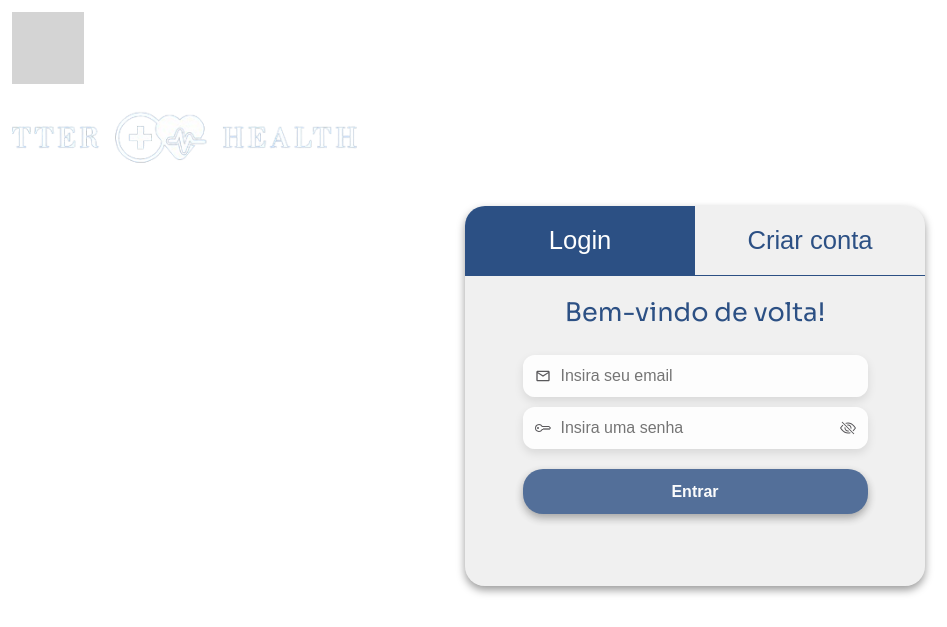
Test: AuthenticationView Component › should show validation errors on blur for empty fields
Click the button "Criar conta" at (810, 240), box 695,206 -> 925,275
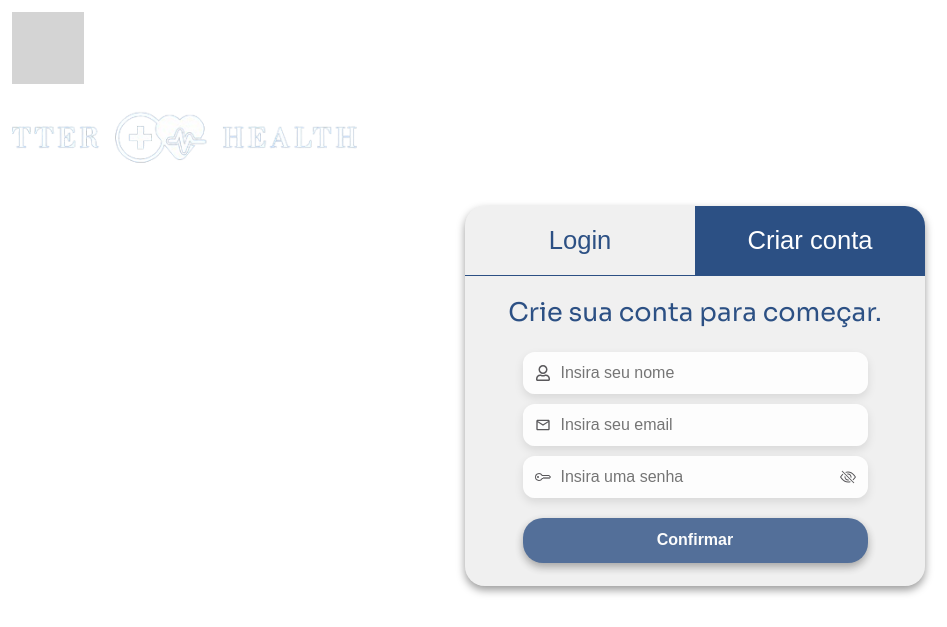
Leave the field with placeholder "Insira seu nome", box 560,364 -> 856,382
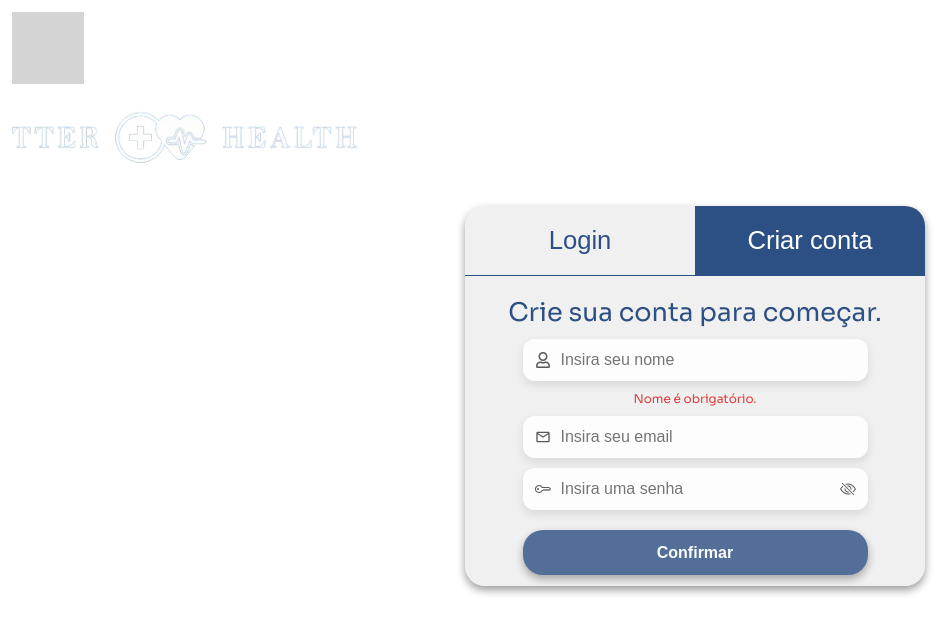
Leave the field with placeholder "Insira seu email", box 560,428 -> 856,446
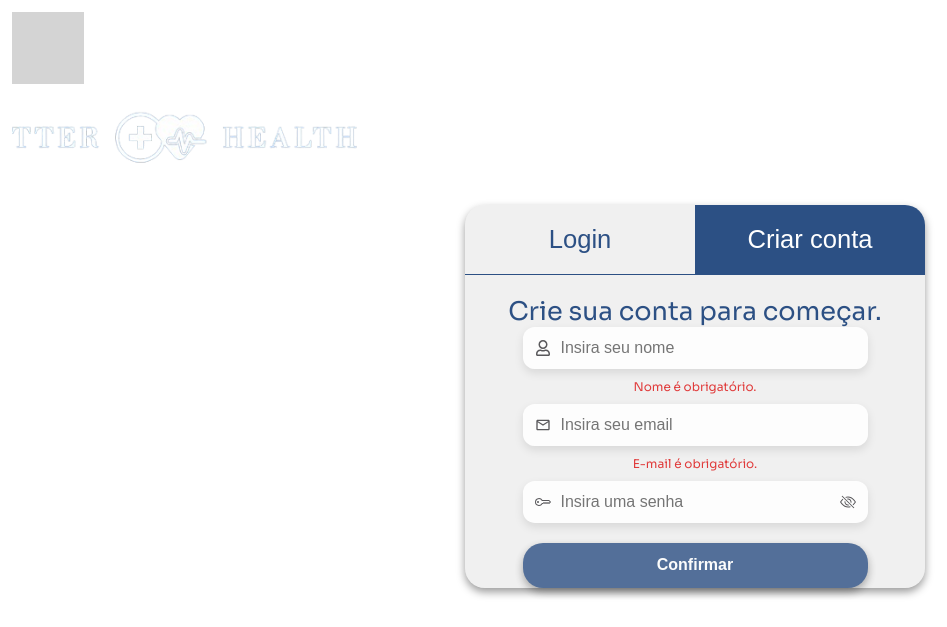
Leave the password field with placeholder "Insira uma senha", box 560,492 -> 830,510
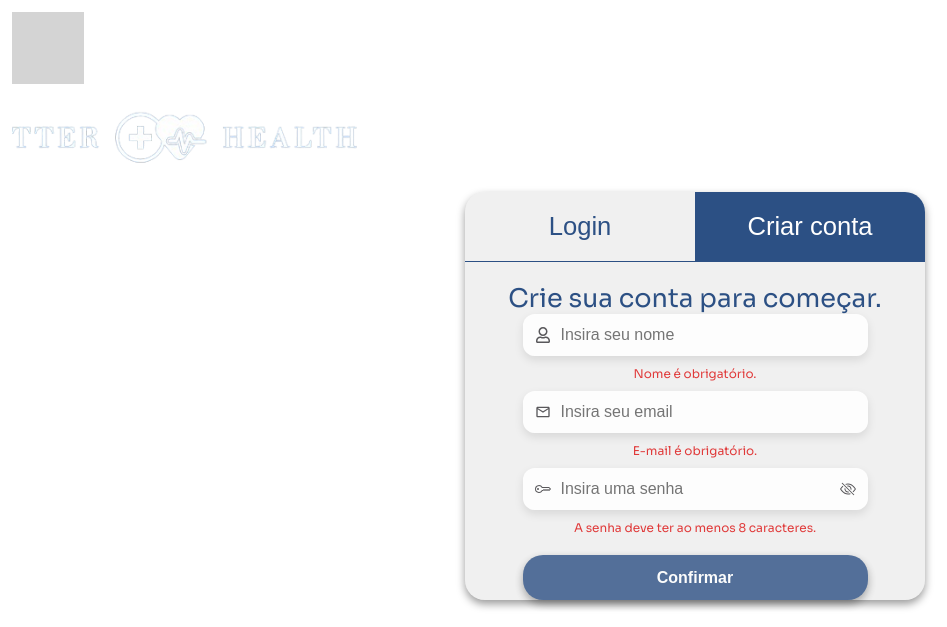
Expected: the text "Nome é obrigatório." is shown, 634,366 -> 756,381
Expected: the text "E-mail é obrigatório." is shown, 633,443 -> 757,458
Expected: the text "A senha deve ter ao menos 8 caracteres." is shown, 574,520 -> 816,535
